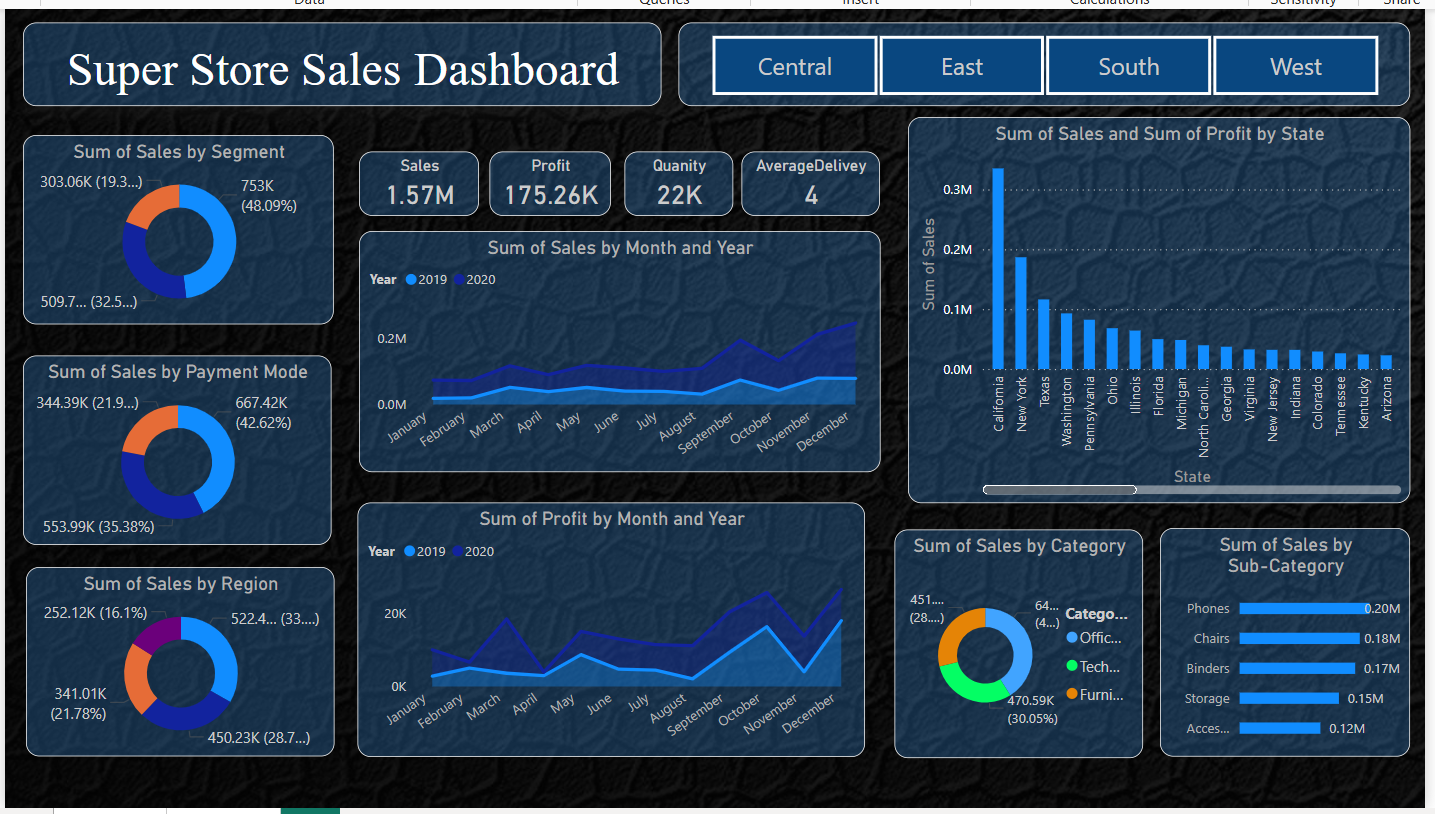

This screenshot's page, from the dashboard's own definition file:
{"tool":"powerbi","page":{"name":"Page 1","canvas":[1280,720],"ordinal":0},"visuals":[{"type":"donutChart","fields":{"Category":["SuperStore_Sales_Dataset.Category"],"Y":["Sum(SuperStore_Sales_Dataset.Sales)"]},"box":[801,469.4,224.1,205.9],"z":0},{"type":"barChart","fields":{"Category":["SuperStore_Sales_Dataset.Sub-Category"],"Y":["Sum(SuperStore_Sales_Dataset.Sales)"]},"box":[1040.3,467.9,225.6,205.9],"z":1000},{"type":"stackedAreaChart","fields":{"Category":["SuperStore_Sales_Dataset.Order Date.Variation.Date Hierarchy.Month"],"Y":["Sum(SuperStore_Sales_Dataset.Sales)"],"Series":["SuperStore_Sales_Dataset.Order Date.Variation.Date Hierarchy.Year"]},"box":[318.6,200,469.8,217.4],"z":2000},{"type":"stackedAreaChart","fields":{"Category":["SuperStore_Sales_Dataset.Order Date.Variation.Date Hierarchy.Month"],"Y":["Sum(SuperStore_Sales_Dataset.Profit)"],"Series":["SuperStore_Sales_Dataset.Order Date.Variation.Date Hierarchy.Year"]},"box":[318.3,445.1,457.4,229.2],"z":3000},{"type":"columnChart","fields":{"Category":["SuperStore_Sales_Dataset.State"],"Y":["Sum(SuperStore_Sales_Dataset.Sales)"]},"box":[813.1,96.9,452.7,348.3],"z":4000},{"type":"donutChart","fields":{"Category":["SuperStore_Sales_Dataset.Segment"],"Y":["Sum(SuperStore_Sales_Dataset.Sales)"]},"box":[16.3,114,280.2,170.9],"z":5000},{"type":"donutChart","fields":{"Y":["Sum(SuperStore_Sales_Dataset.Sales)"],"Category":["SuperStore_Sales_Dataset.Payment Mode"]},"box":[16.3,312.8,277.9,170.9],"z":6000},{"type":"slicer","fields":{"Values":["SuperStore_Sales_Dataset.Region"]},"box":[607,12.8,659.3,75.6],"z":7000},{"type":"textbox","box":[16.3,11.6,575.6,75.6],"z":8000},{"type":"donutChart","fields":{"Y":["Sum(SuperStore_Sales_Dataset.Sales)"],"Category":["SuperStore_Sales_Dataset.Region"]},"box":[18.6,503.5,277.9,170.9],"z":9000},{"type":"card","title":"Sales","fields":{"Values":["Sum(SuperStore_Sales_Dataset.Sales)"]},"box":[318.6,127.9,108.1,58.1],"z":10000},{"type":"card","title":"Profit","fields":{"Values":["Sum(SuperStore_Sales_Dataset.Profit)"]},"box":[437.2,127.9,109.3,58.1],"z":11000},{"type":"card","title":"Quanity","fields":{"Values":["Sum(SuperStore_Sales_Dataset.Quantity)"]},"box":[558.1,127.9,97.7,58.1],"z":12000},{"type":"card","title":"AverageDelivey","fields":{"Values":["Avg(SuperStore_Sales_Dataset.AvergaeDelivery)"]},"box":[664,127.9,124.4,58.1],"z":13000}]}

Visuals, with their boxes on the page's 1280x720 design canvas (x1, y1, x2, y2). These are canvas units, not pixel positions in the 1435x814 screenshot, which may show the page scaled, cropped or inside an application window:
donutChart - SuperStore_Sales_Dataset.Category x Sum(SuperStore_Sales_Dataset.Sales): <region>801, 469, 1025, 675</region>
barChart - SuperStore_Sales_Dataset.Sub-Category x Sum(SuperStore_Sales_Dataset.Sales): <region>1040, 468, 1266, 674</region>
stackedAreaChart - SuperStore_Sales_Dataset.Order Date.Variation.Date Hierarchy.Month x Sum(SuperStore_Sales_Dataset.Sales): <region>319, 200, 788, 417</region>
stackedAreaChart - SuperStore_Sales_Dataset.Order Date.Variation.Date Hierarchy.Month x Sum(SuperStore_Sales_Dataset.Profit): <region>318, 445, 776, 674</region>
columnChart - SuperStore_Sales_Dataset.State x Sum(SuperStore_Sales_Dataset.Sales): <region>813, 97, 1266, 445</region>
donutChart - SuperStore_Sales_Dataset.Segment x Sum(SuperStore_Sales_Dataset.Sales): <region>16, 114, 296, 285</region>
donutChart - Sum(SuperStore_Sales_Dataset.Sales) x SuperStore_Sales_Dataset.Payment Mode: <region>16, 313, 294, 484</region>
slicer - SuperStore_Sales_Dataset.Region: <region>607, 13, 1266, 88</region>
textbox: <region>16, 12, 592, 87</region>
donutChart - Sum(SuperStore_Sales_Dataset.Sales) x SuperStore_Sales_Dataset.Region: <region>19, 504, 296, 674</region>
"Sales" card: <region>319, 128, 427, 186</region>
"Profit" card: <region>437, 128, 546, 186</region>
"Quanity" card: <region>558, 128, 656, 186</region>
"AverageDelivey" card: <region>664, 128, 788, 186</region>
